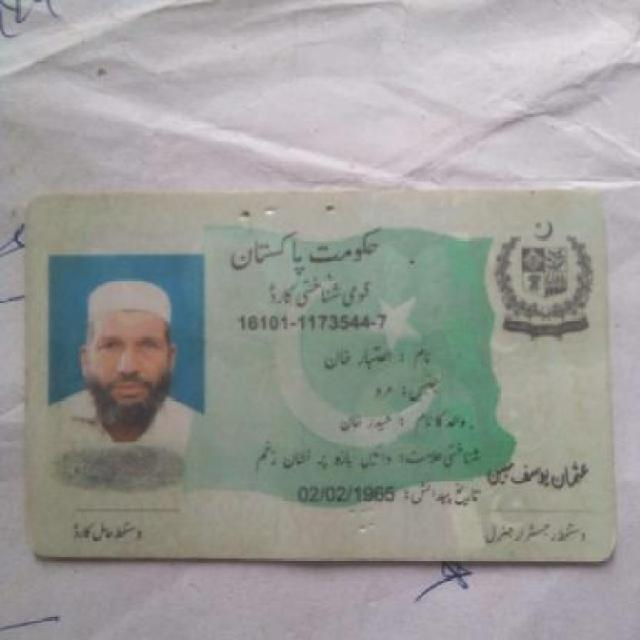Front: (20, 182, 625, 569)
